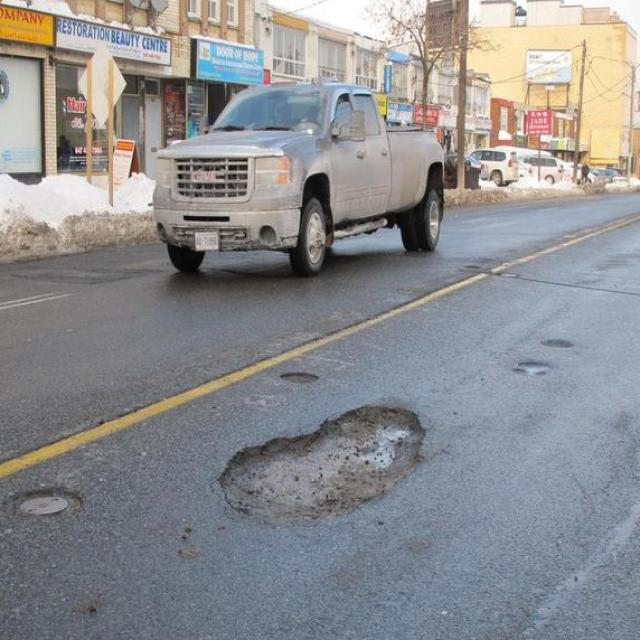Lubang: (216, 405, 417, 536), (20, 492, 69, 517)
